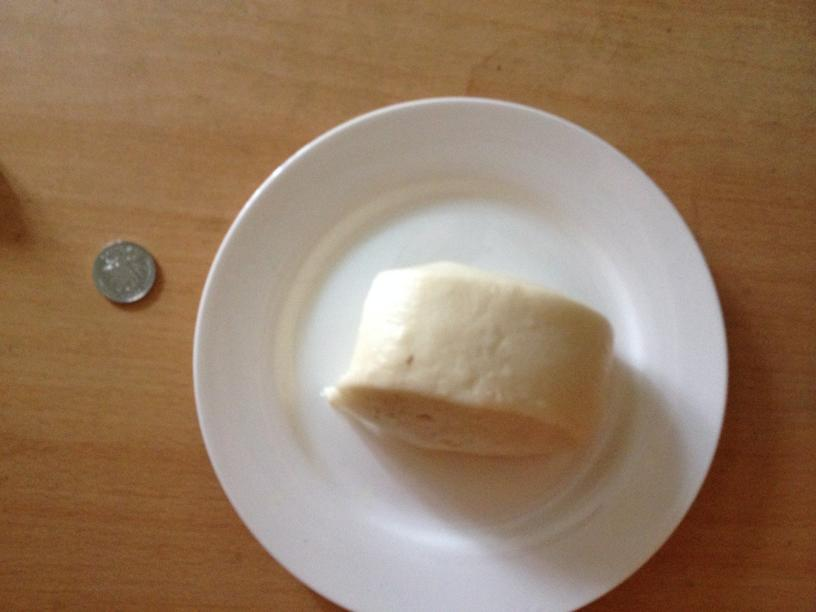bun: (331, 264, 614, 458)
coin: (92, 240, 156, 305)
